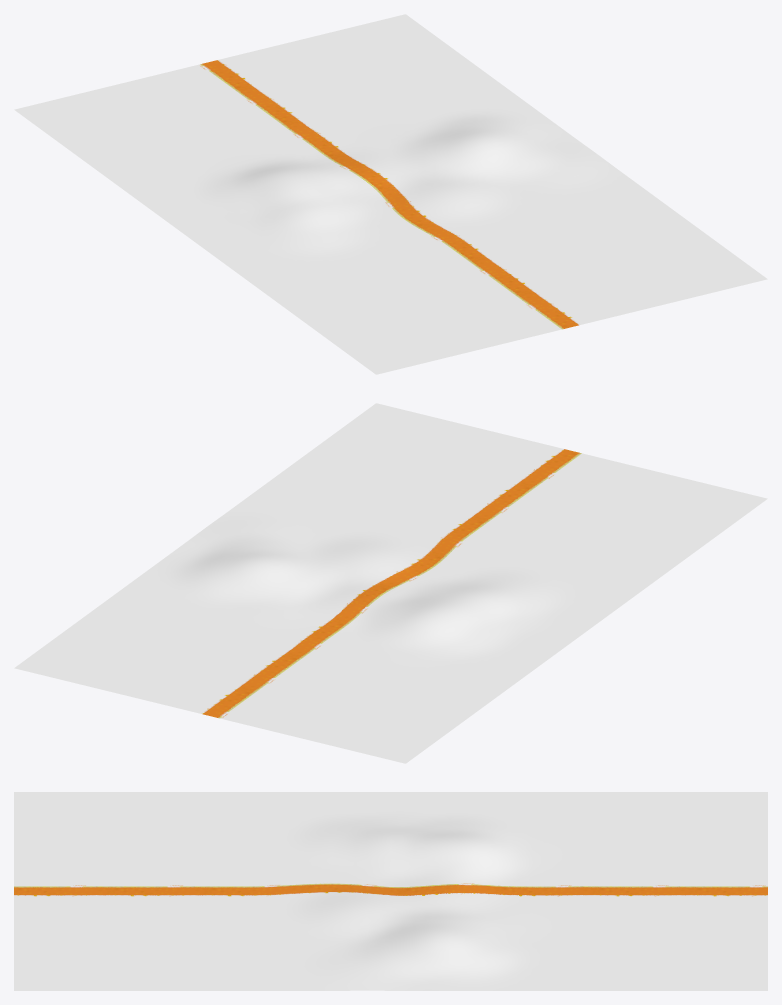
File: floorDetailed2.fbx
3 views of the same model, one above another, from view 1: azimuth 30°, elevation 25°; view 2: azimuth 150°, elevation 25°; view 3: azimuth 270°, elevation 25° (orthographic). The views are drawn at different scales.
Visible parts, largest first — view 1: floorSubdiv; view 2: floorSubdiv; view 3: floorSubdiv.
Part boxes in pixels (x1=…): floorSubdiv: x1=14, y1=14, x2=767, y2=374; floorSubdiv: x1=14, y1=403, x2=767, y2=763; floorSubdiv: x1=14, y1=792, x2=767, y2=990.
Size of what is drawn, in the model's own units: 604 by 14.86 by 967.
Materials: 1 (1 with a texture image).
